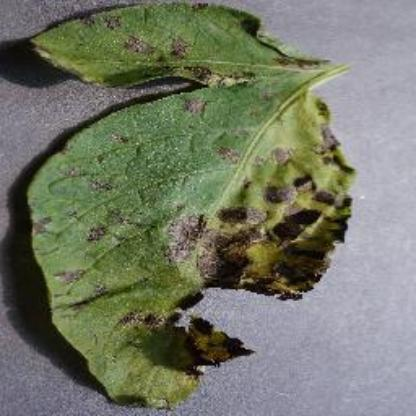Early-Blight: (20, 11, 376, 409), (18, 86, 356, 406), (21, 0, 343, 86)
